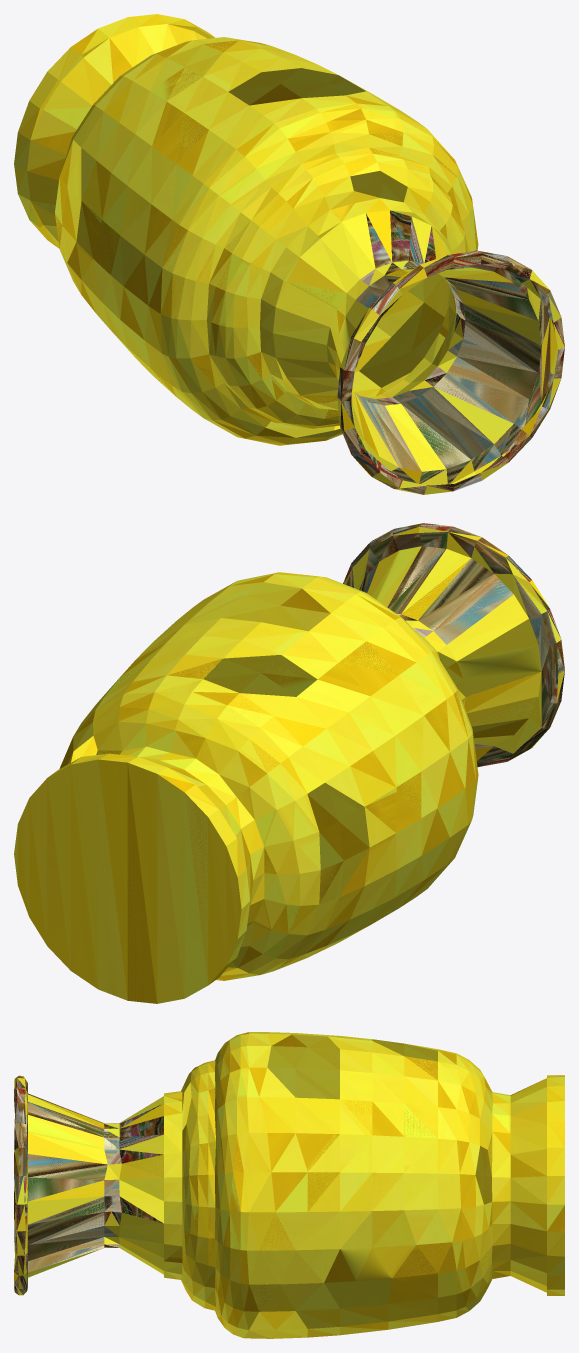
The model's file is model_align.obj.
3 renders of one model, top to bottom at view 1: azimuth 30°, elevation 25°; view 2: azimuth 150°, elevation 25°; view 3: azimuth 270°, elevation 25°, orthographic. The views are drawn at different scales.
Bounding box in the file's own units: 0.0723 × 0.0722 × 0.1292.
Materials: 2 (2 with a texture image).
